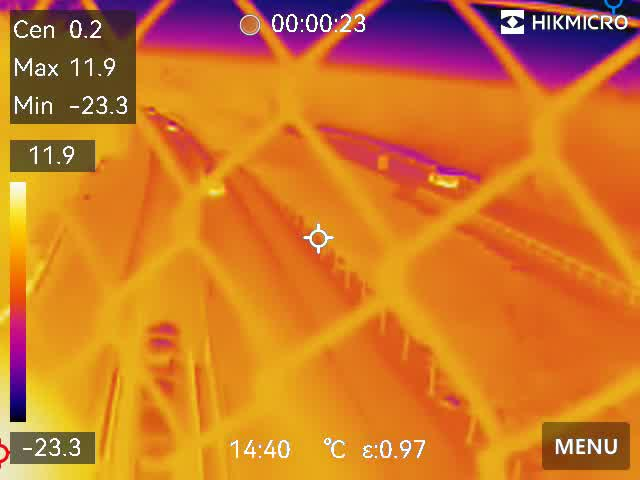heavyTruck: (98, 248, 241, 480)
vehicle: (423, 162, 468, 194), (195, 161, 223, 199), (164, 116, 183, 134), (140, 101, 160, 117)
